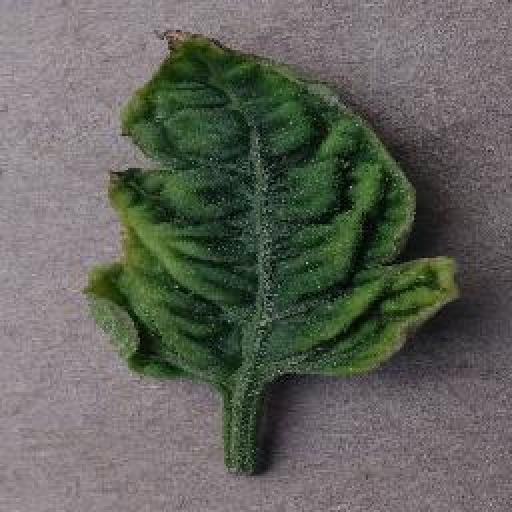Yellow Leaf Curl Virus: (86, 24, 464, 400)
